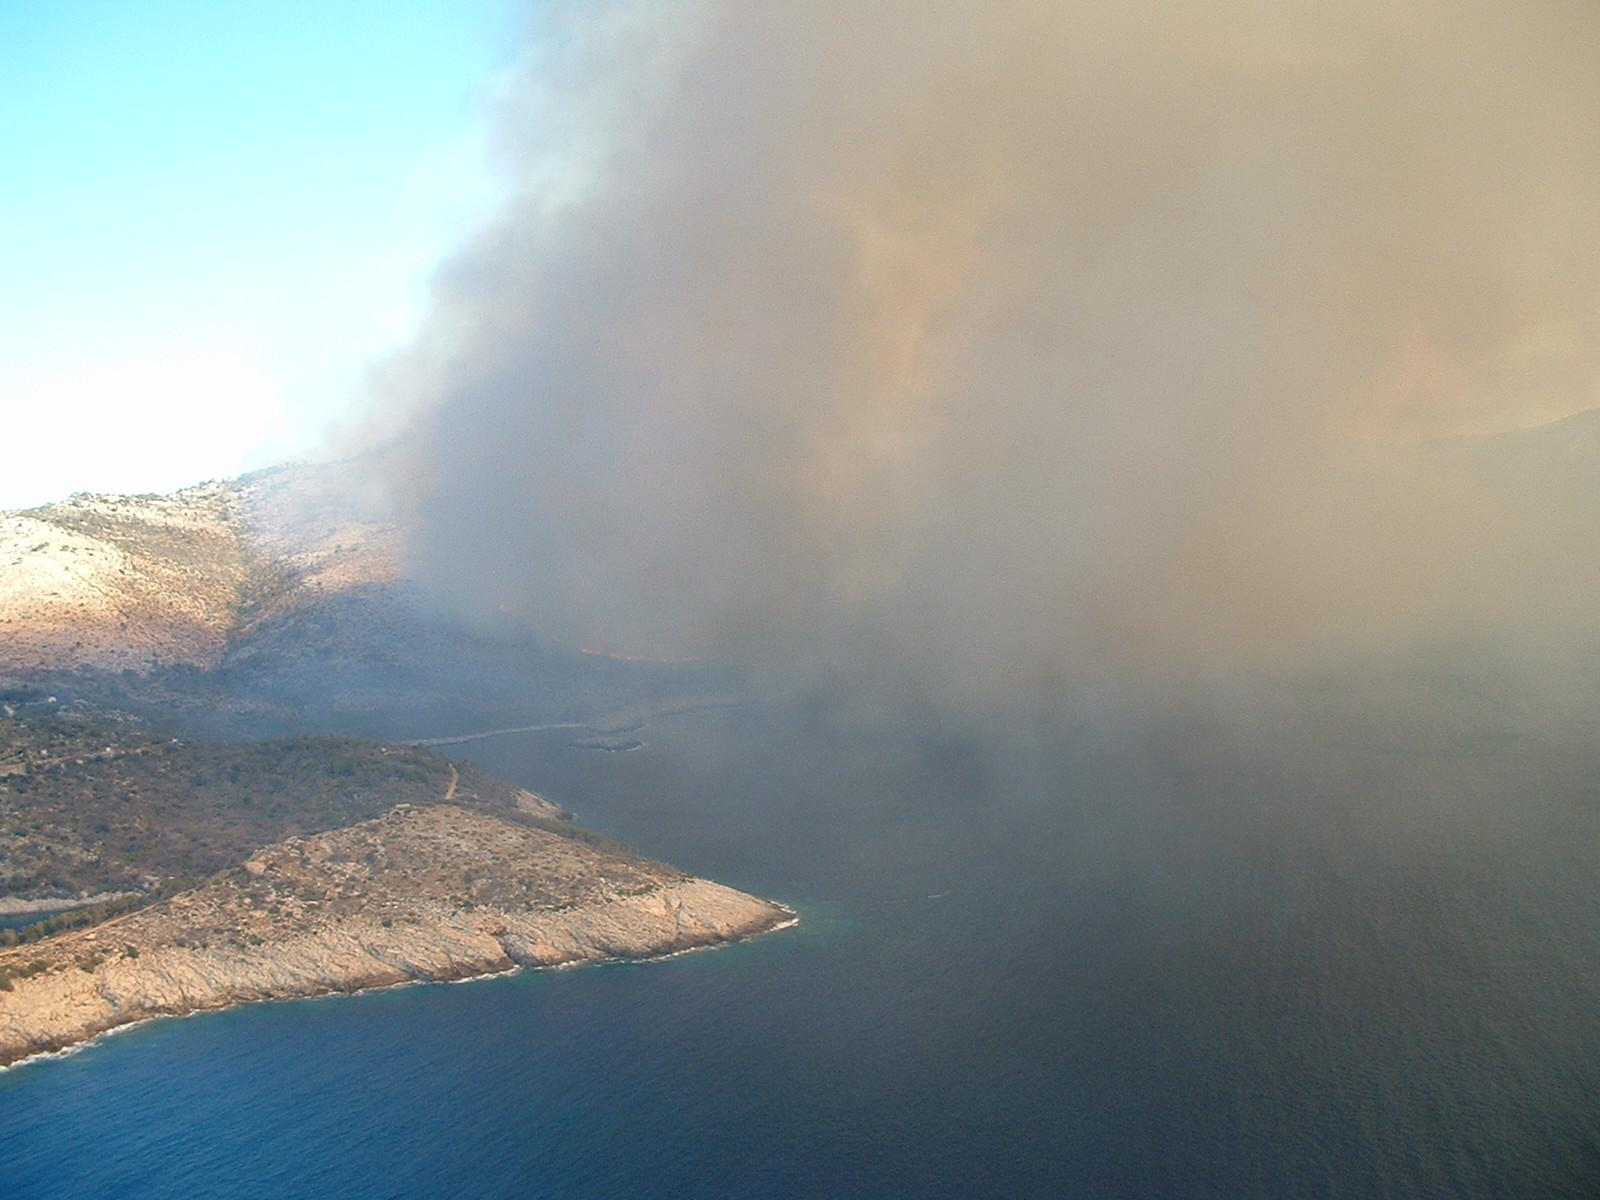Smoke: (325, 0, 1600, 855)
